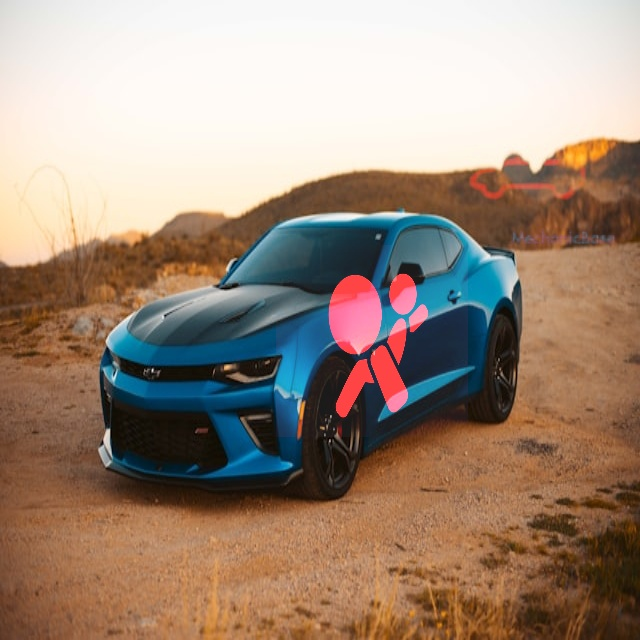symbol: (276, 245, 468, 437), (440, 71, 622, 253)
